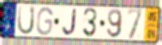3: (82, 7, 98, 39)
7: (127, 7, 145, 41)
9: (106, 9, 123, 39)
G: (35, 6, 54, 37)
J: (61, 8, 78, 37)
U: (16, 5, 36, 36)
